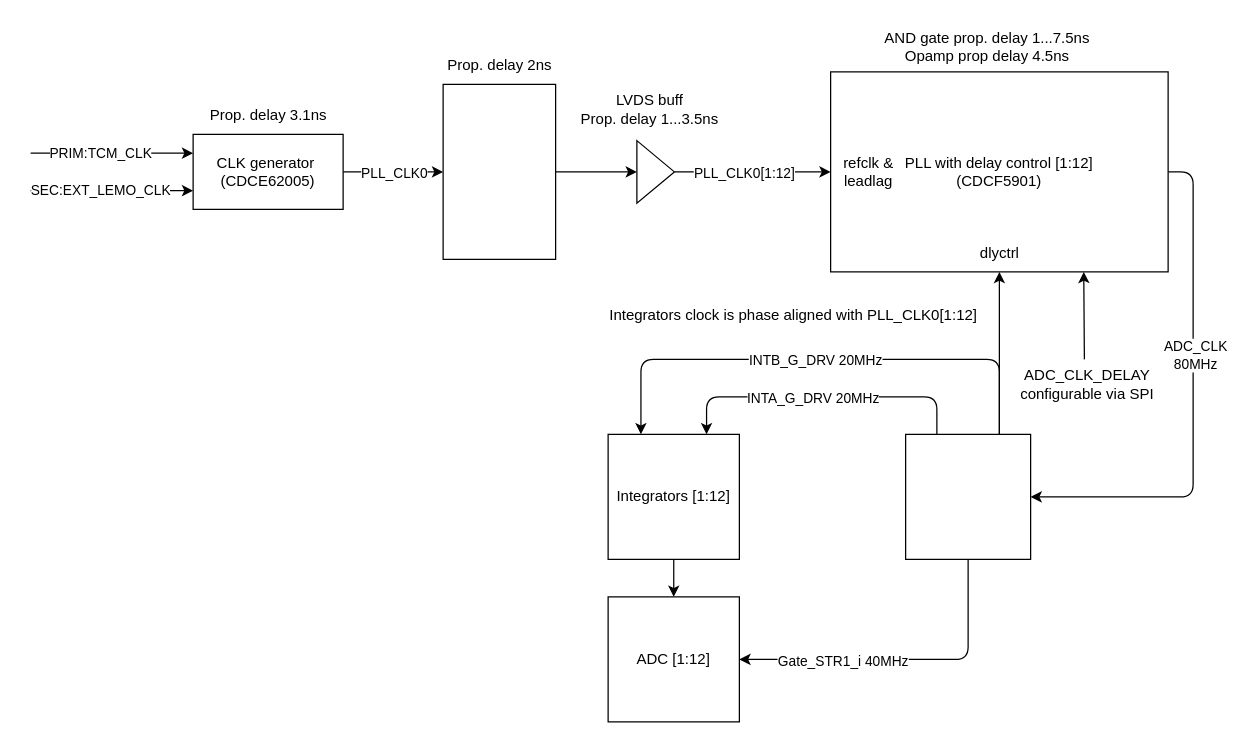
This 1249x744 diagram has some shape labels left out. The centre of each missing label's shape, as x and y in pixels:
"CLK fanout (ADCLK854)" goes at point 499,171.
"CPLD [1:12]" goes at point 967,496.
